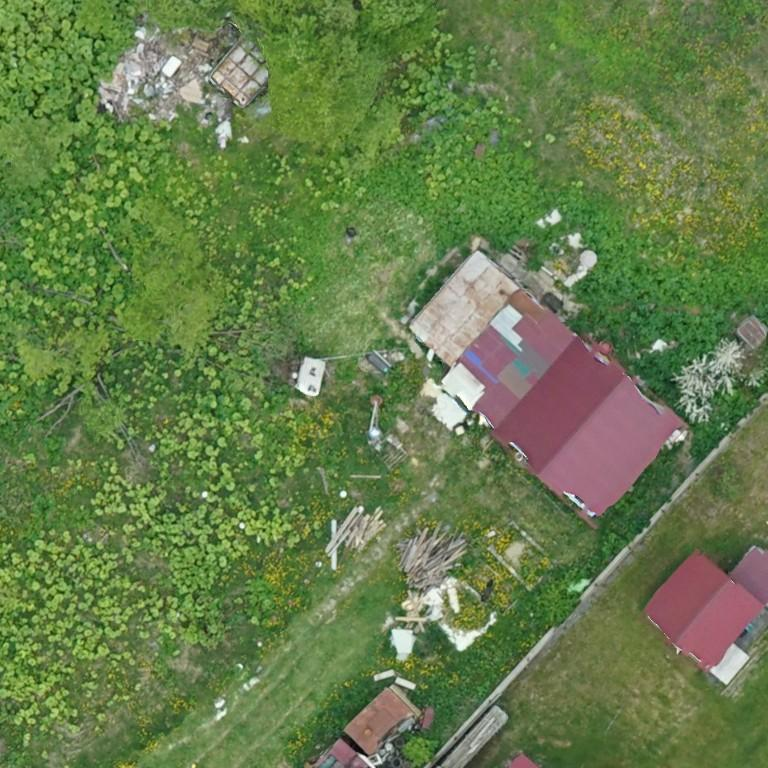hogweed: (573, 210, 725, 399), (693, 425, 721, 457)
